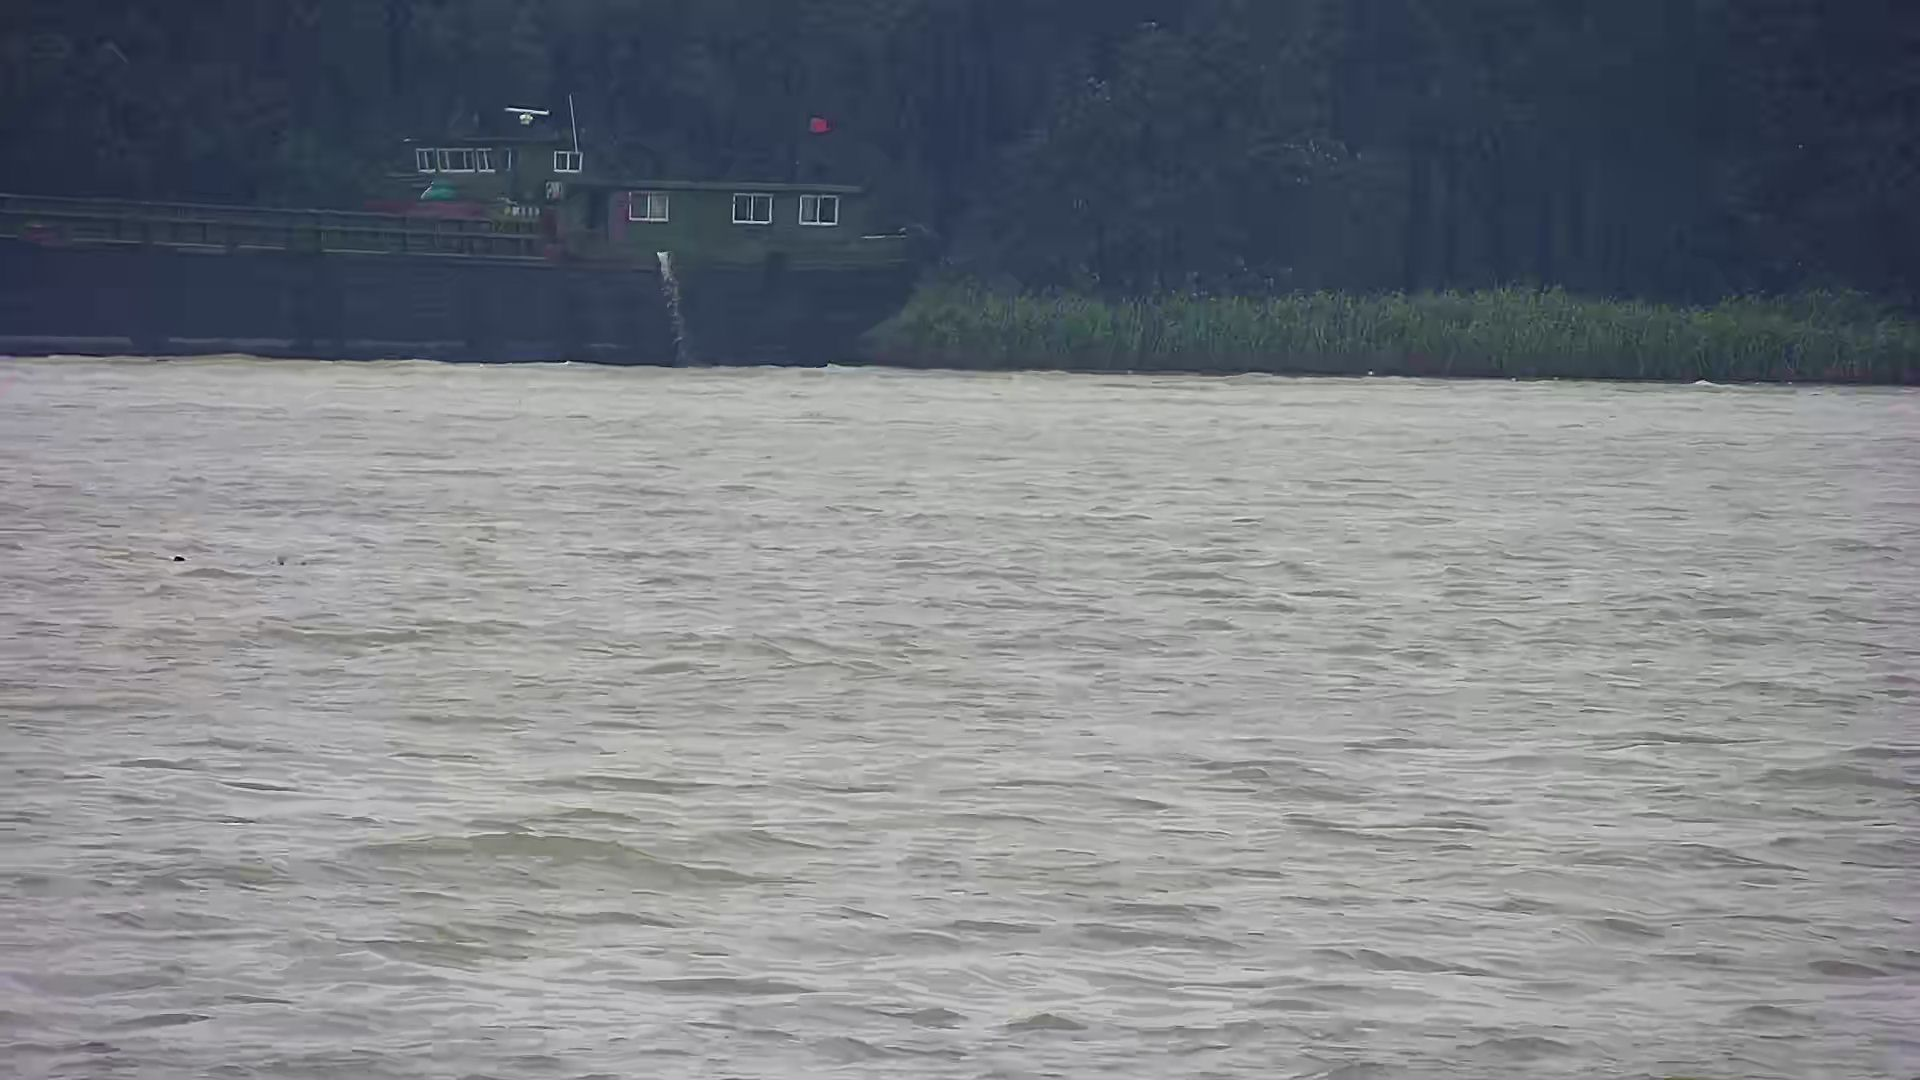ship: (1, 94, 939, 404)
